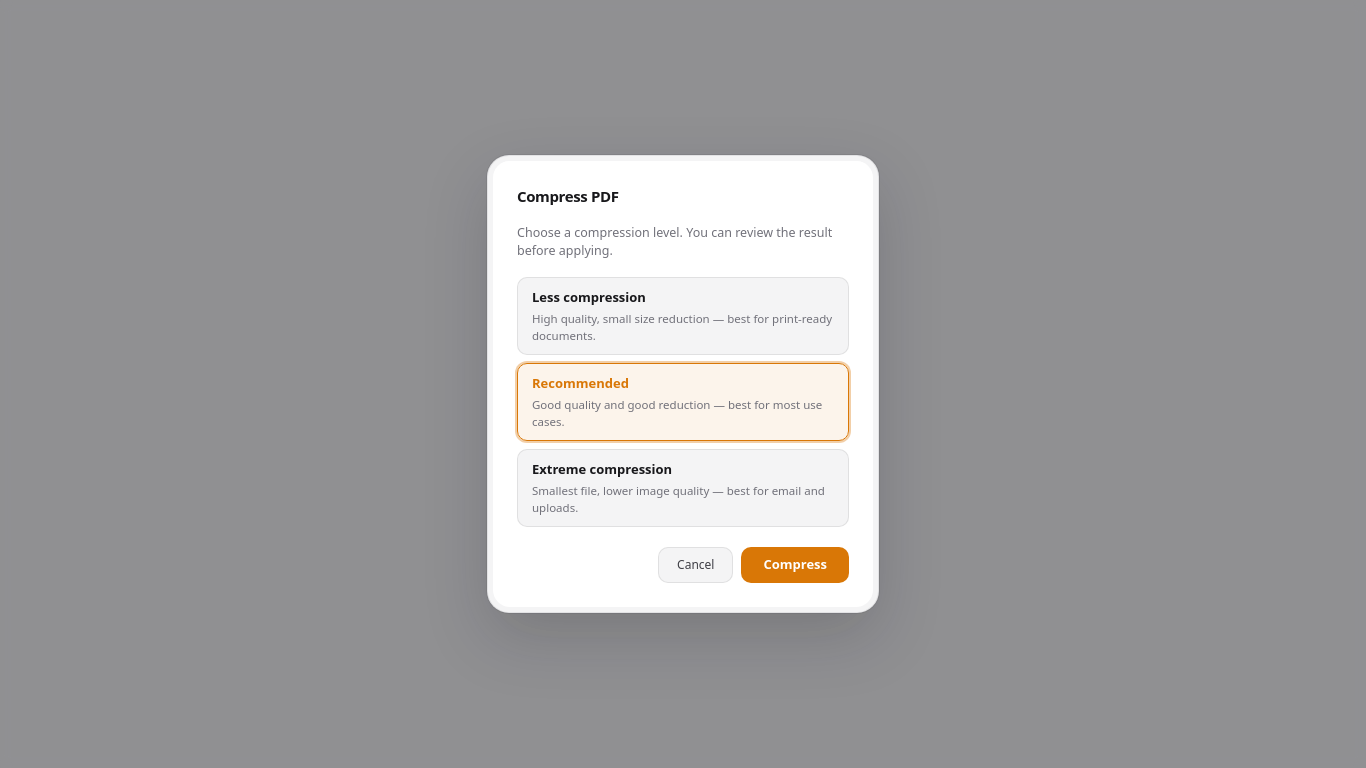
Test: ShrinkModal — result step › shows Original size, New size, and reduction % after compressing
The width and height of the screenshot is (1366, 768).
Click the button "Compress". click: point(795, 565)
box: [741, 547, 849, 583]
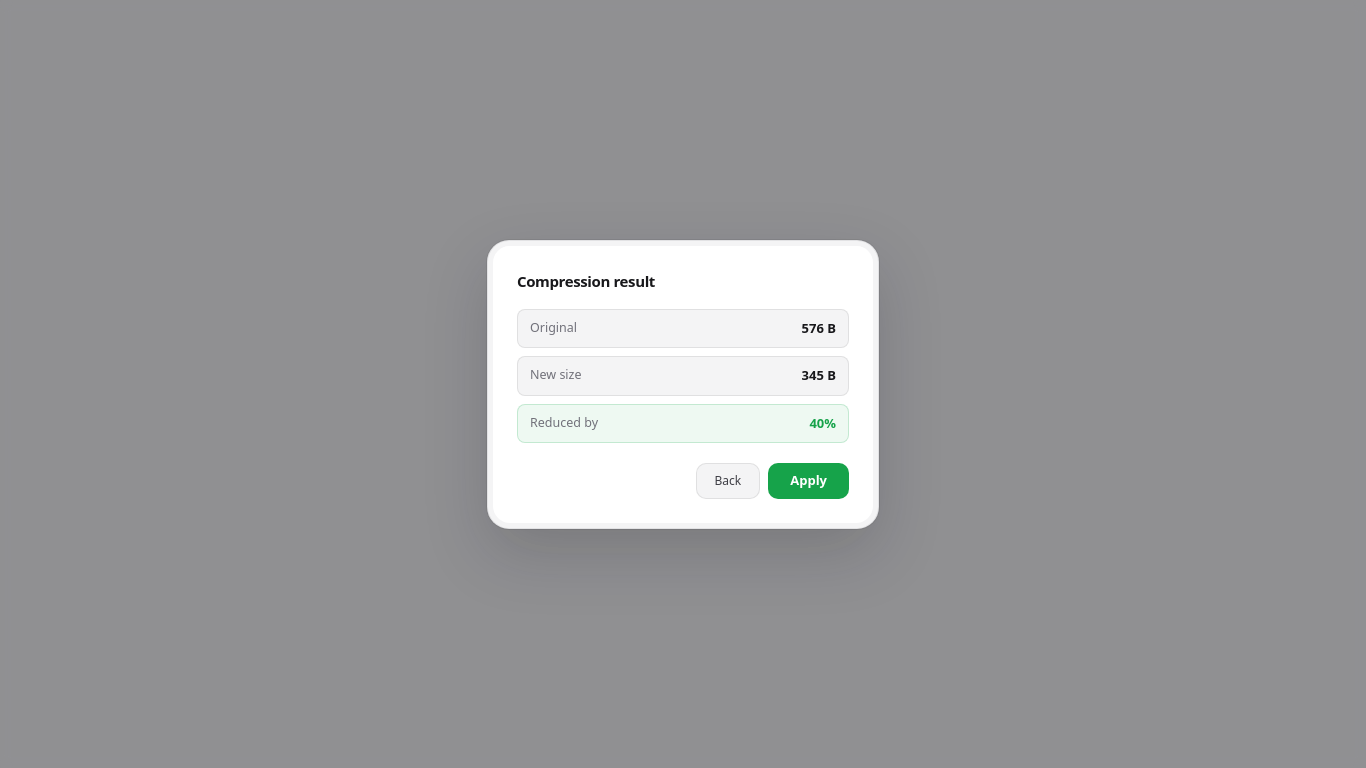
Expected: the text "Original" is shown, [530, 318, 577, 337]
Expected: the text "New size" is shown, [530, 366, 582, 385]
Expected: the text "Reduced by" is shown, [530, 413, 598, 432]
